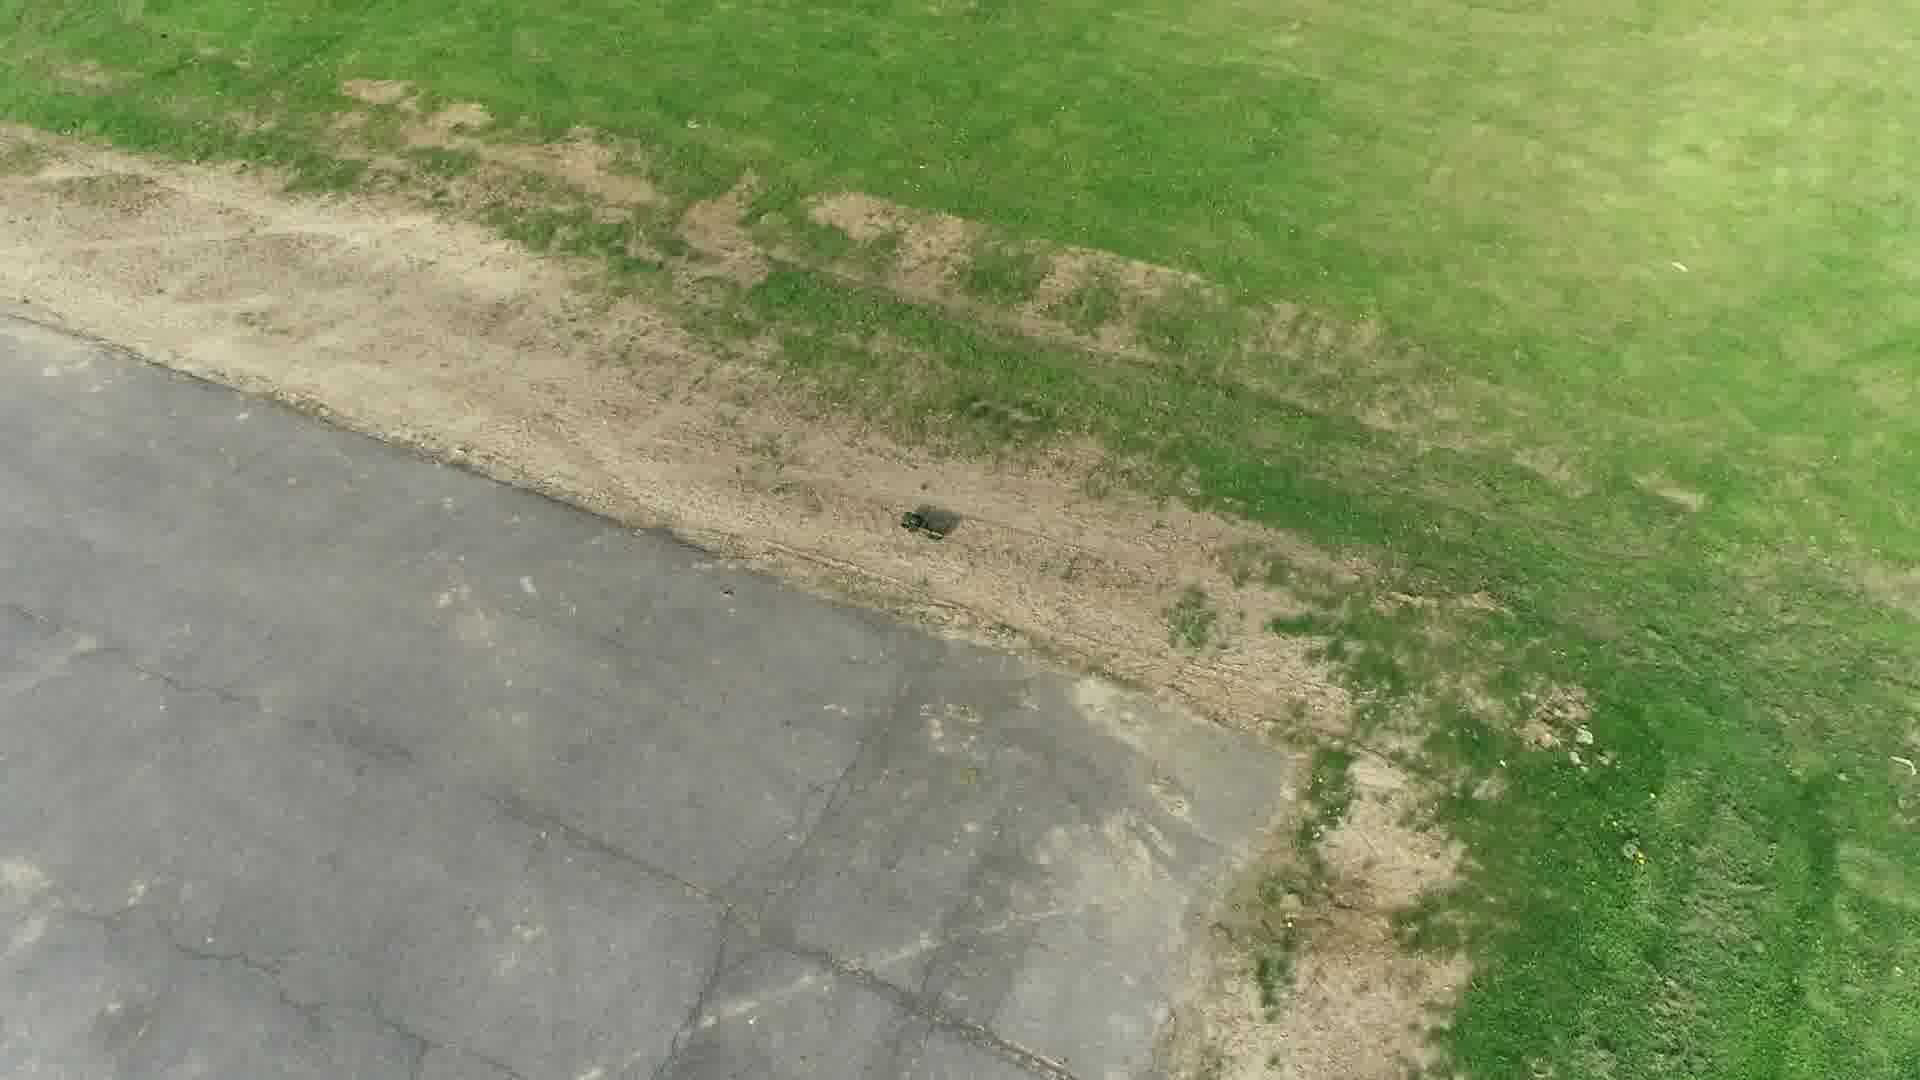transporter9: (899, 512, 945, 543)
